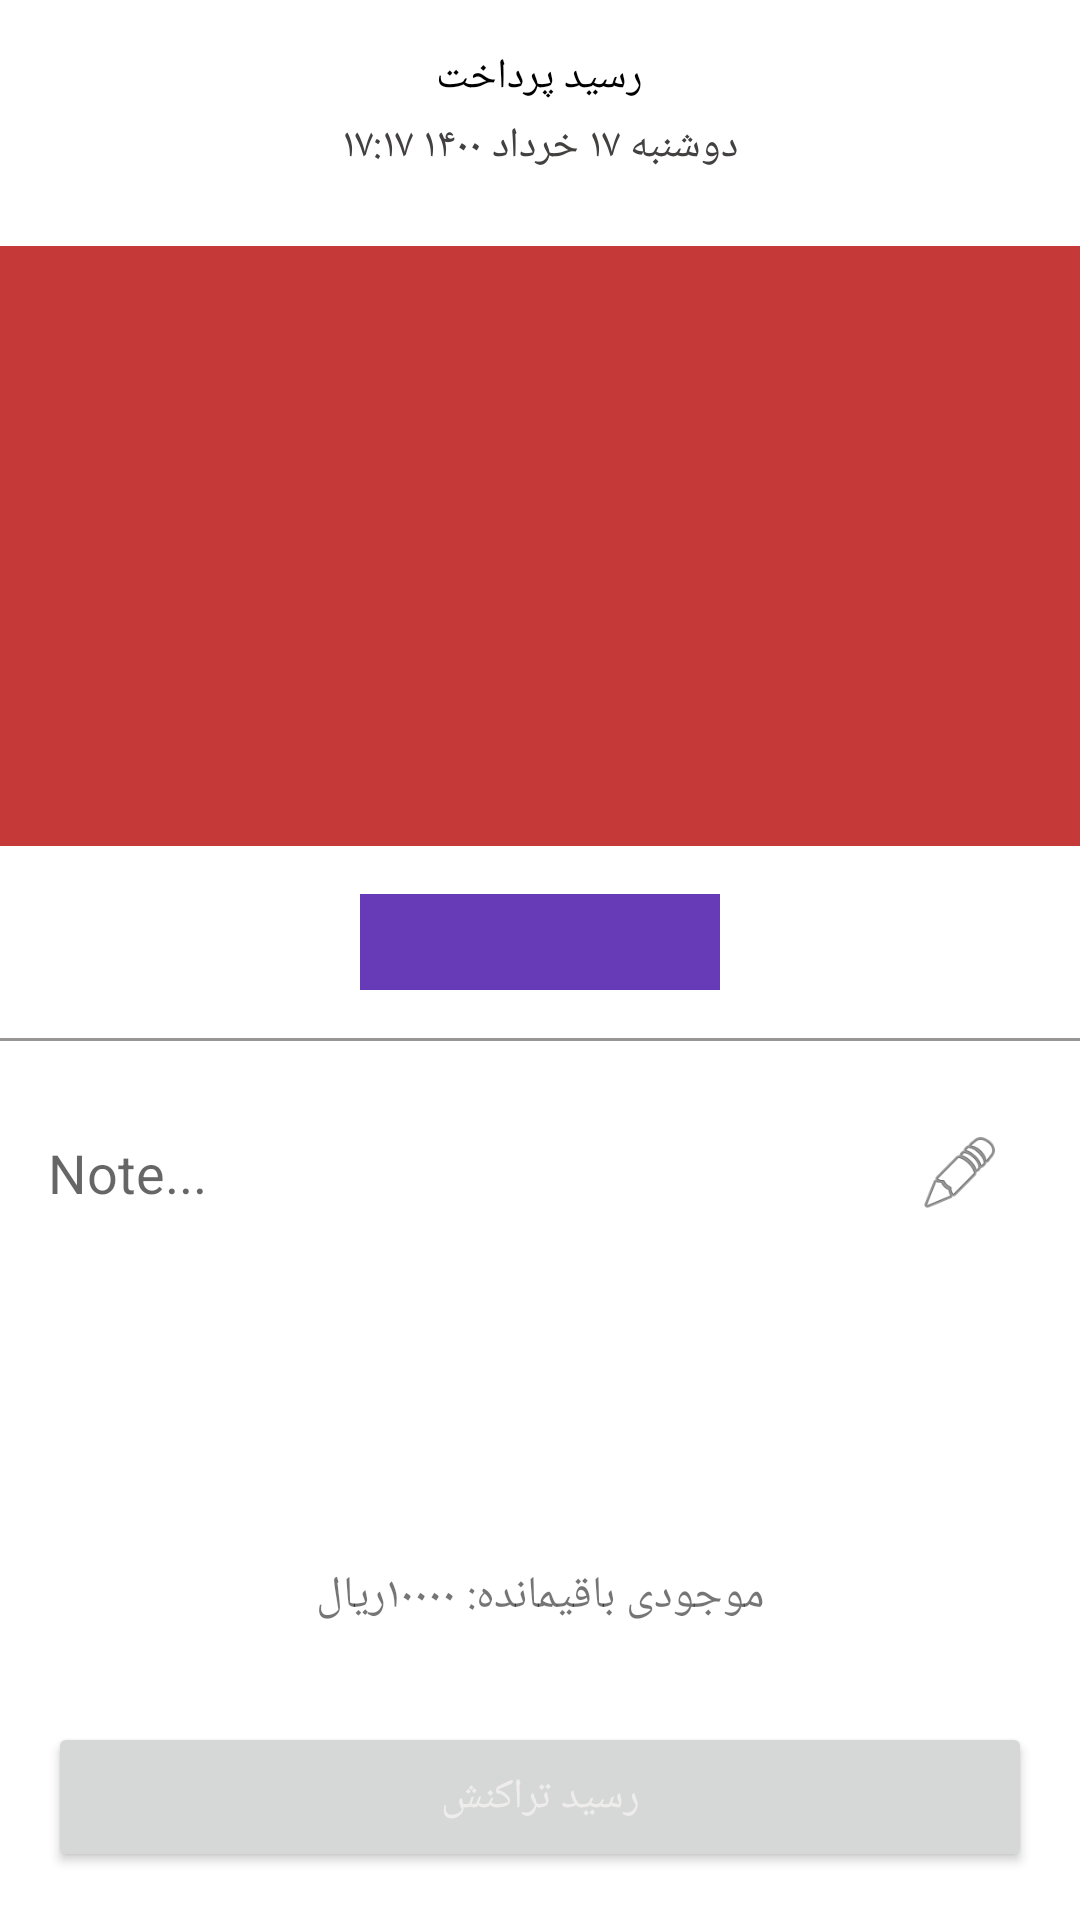

Point at icon controls on the screen. Image size 1080 x 1920, points as (x=x, y=y).
edit: (x=959, y=1172)
